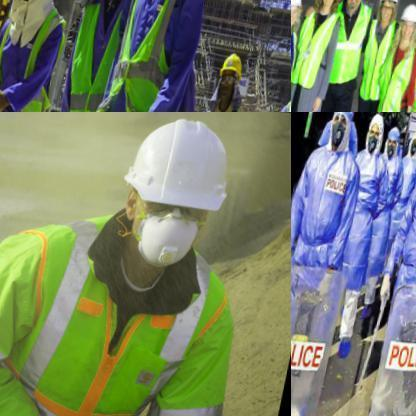vest: (0, 199, 271, 415), (291, 143, 372, 400), (101, 0, 214, 111), (366, 171, 415, 410), (330, 142, 399, 295), (49, 0, 134, 111), (0, 0, 75, 111), (356, 151, 408, 283), (323, 0, 377, 93), (292, 5, 343, 95), (358, 17, 404, 107), (373, 40, 415, 111), (387, 155, 415, 242), (291, 20, 309, 111)
